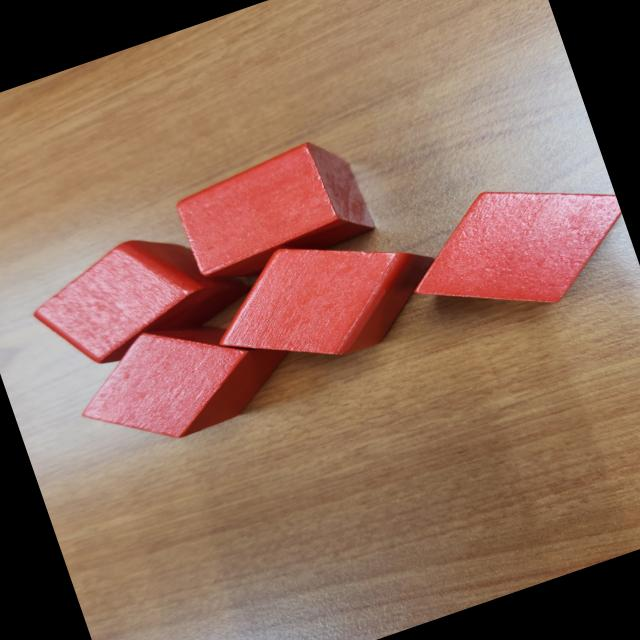red: (194, 200, 455, 393), (387, 151, 640, 346), (61, 287, 308, 466), (19, 206, 264, 384), (168, 129, 380, 295)
